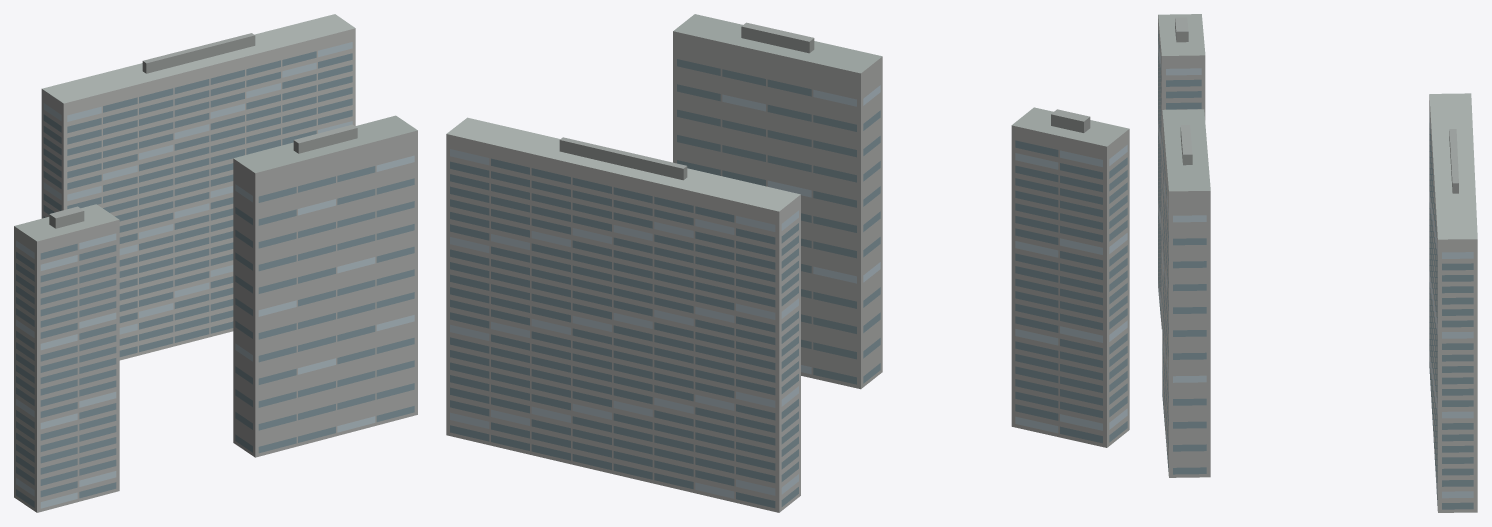
Rendered from apt-a13383702.glb.
3 renders of one model, left to right at view 1: azimuth 30°, elevation 25°; view 2: azimuth 150°, elevation 25°; view 3: azimuth 270°, elevation 25°, orthographic. The views are drawn at different scales.
Visible parts, largest first — view 1: apt-a13383702; view 2: apt-a13383702; view 3: apt-a13383702.
Part boxes in pixels (bbox=[...]): apt-a13383702: bbox=[14, 14, 417, 512]; apt-a13383702: bbox=[446, 14, 1129, 512]; apt-a13383702: bbox=[1158, 14, 1477, 512].
Size of the model in its own units: 111 by 68 by 66.38.
